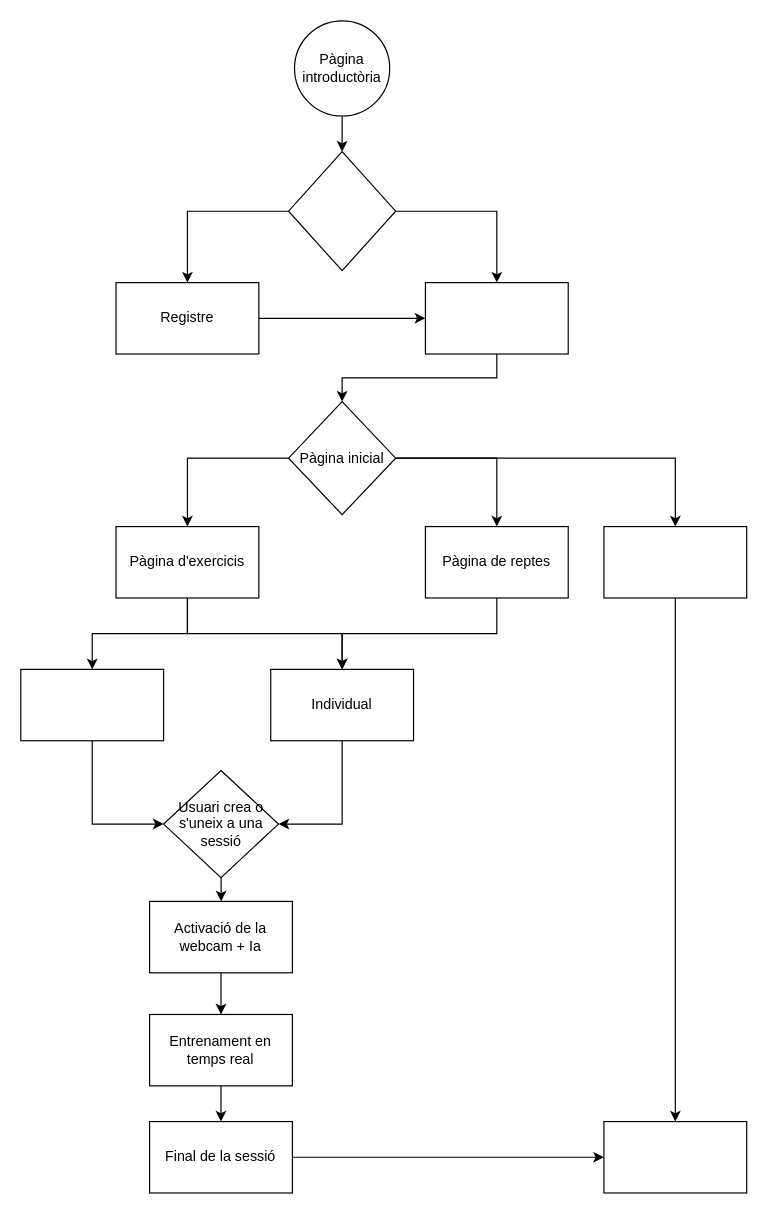
Some shapes in this 768 by 1214 pixel diagram are drawn without their labels. Here are the shapes that lost their labels. From the top down, the centre of each, then its label:
At point (341, 211): "Usuari es logueja o es registre".
At point (496, 317): "Login".
At point (675, 561): "Classificacions".
At point (92, 704): "Grupal".
At point (675, 1156): "Tornar a la pàgina inicial".
